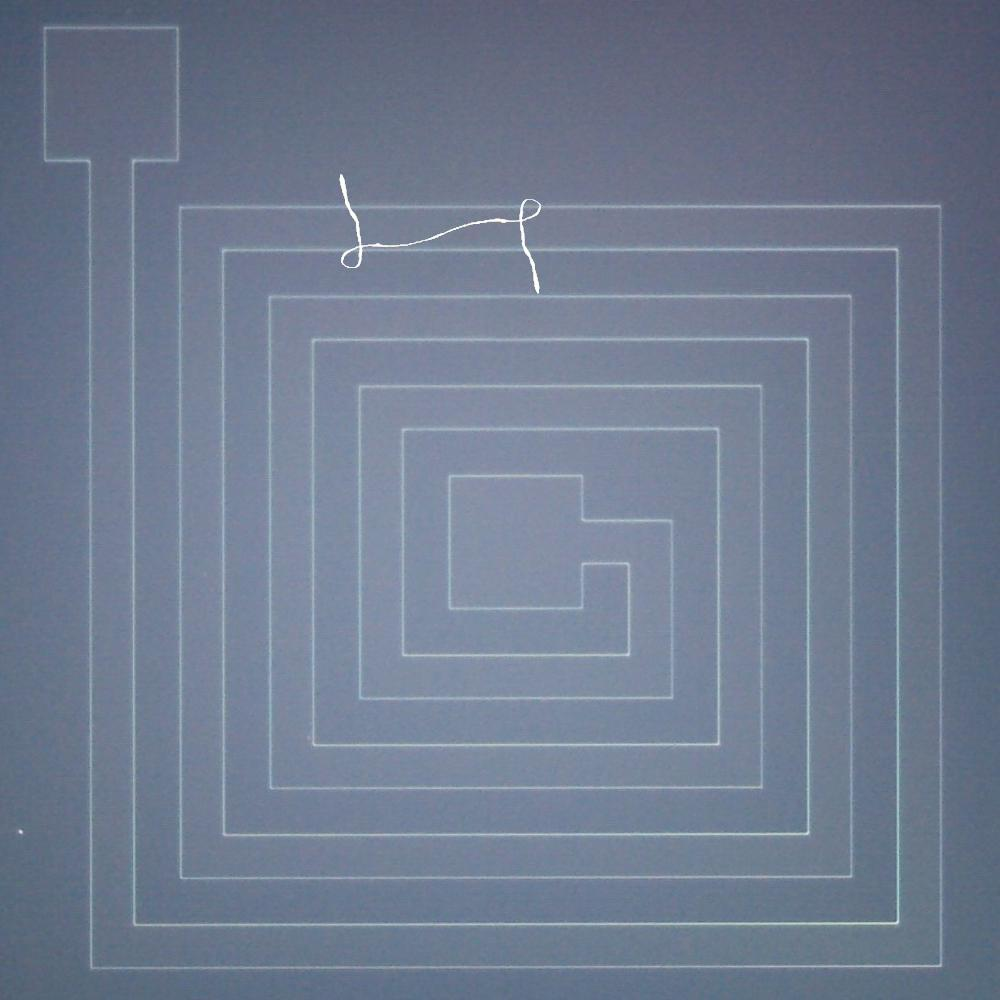dot: (12, 817, 32, 843)
line: (329, 167, 547, 303)
